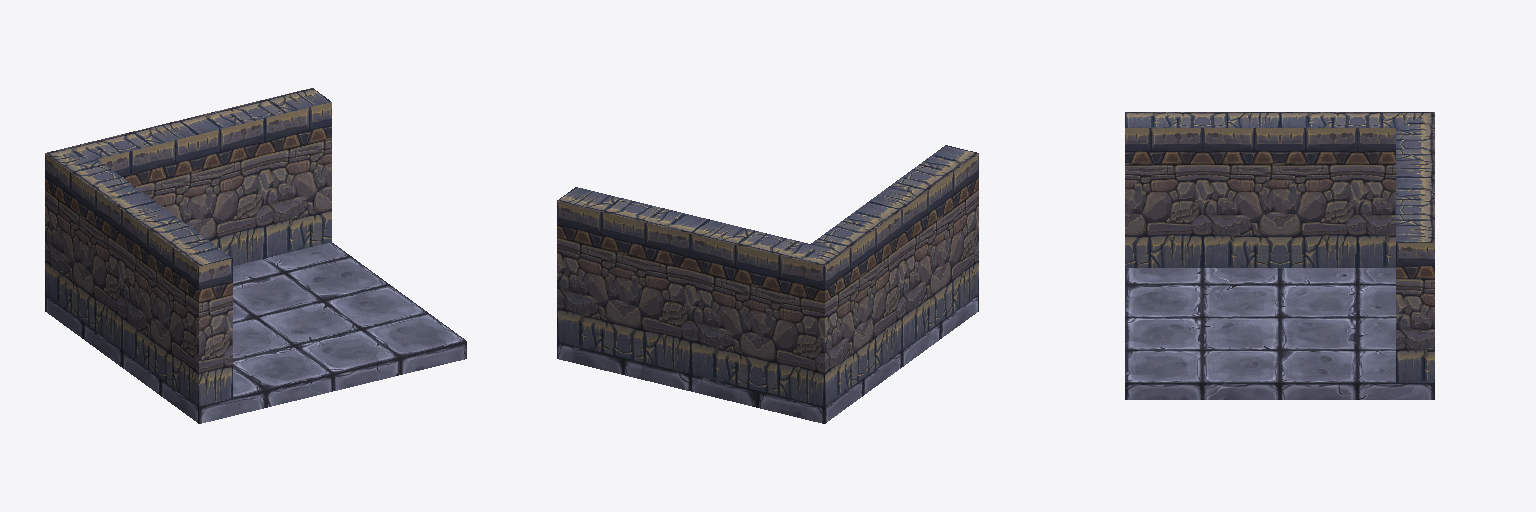
3 views of the same model, side by side, from view 1: azimuth 30°, elevation 25°; view 2: azimuth 150°, elevation 25°; view 3: azimuth 270°, elevation 25° (orthographic).
Visible parts, largest first — view 1: Mesh2 Group2 Model, Mesh1 Group1 Model; view 2: Mesh2 Group2 Model, Mesh1 Group1 Model; view 3: Mesh2 Group2 Model, Mesh1 Group1 Model.
Part boxes in pixels (bbox=[...]): Mesh2 Group2 Model: bbox=[45, 88, 331, 406]; Mesh1 Group1 Model: bbox=[45, 242, 466, 423]; Mesh2 Group2 Model: bbox=[557, 145, 978, 406]; Mesh1 Group1 Model: bbox=[557, 294, 978, 423]; Mesh2 Group2 Model: bbox=[1125, 112, 1434, 382]; Mesh1 Group1 Model: bbox=[1125, 268, 1434, 399].
Bounding box in the file's own units: 157 × 88.58 × 157.
2 materials, 2 textured.